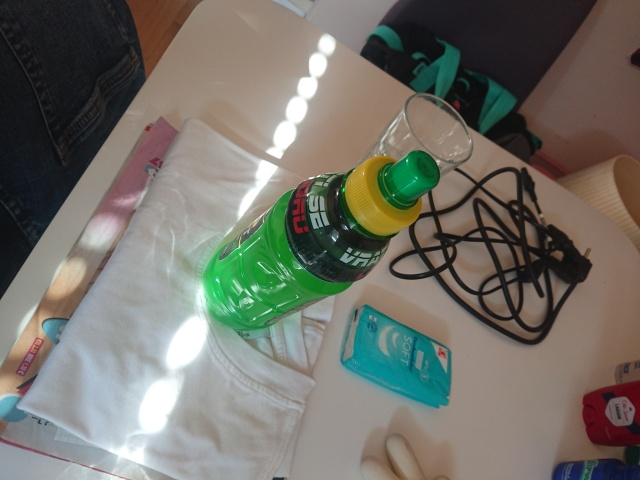Vindi Iso Sport Lemon-Grapefruit 500mL: (199, 147, 443, 334)
